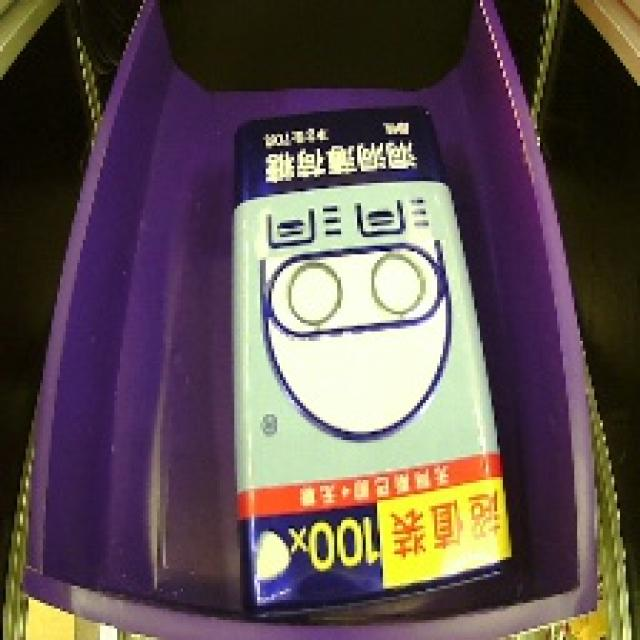metal: (215, 90, 529, 624)
